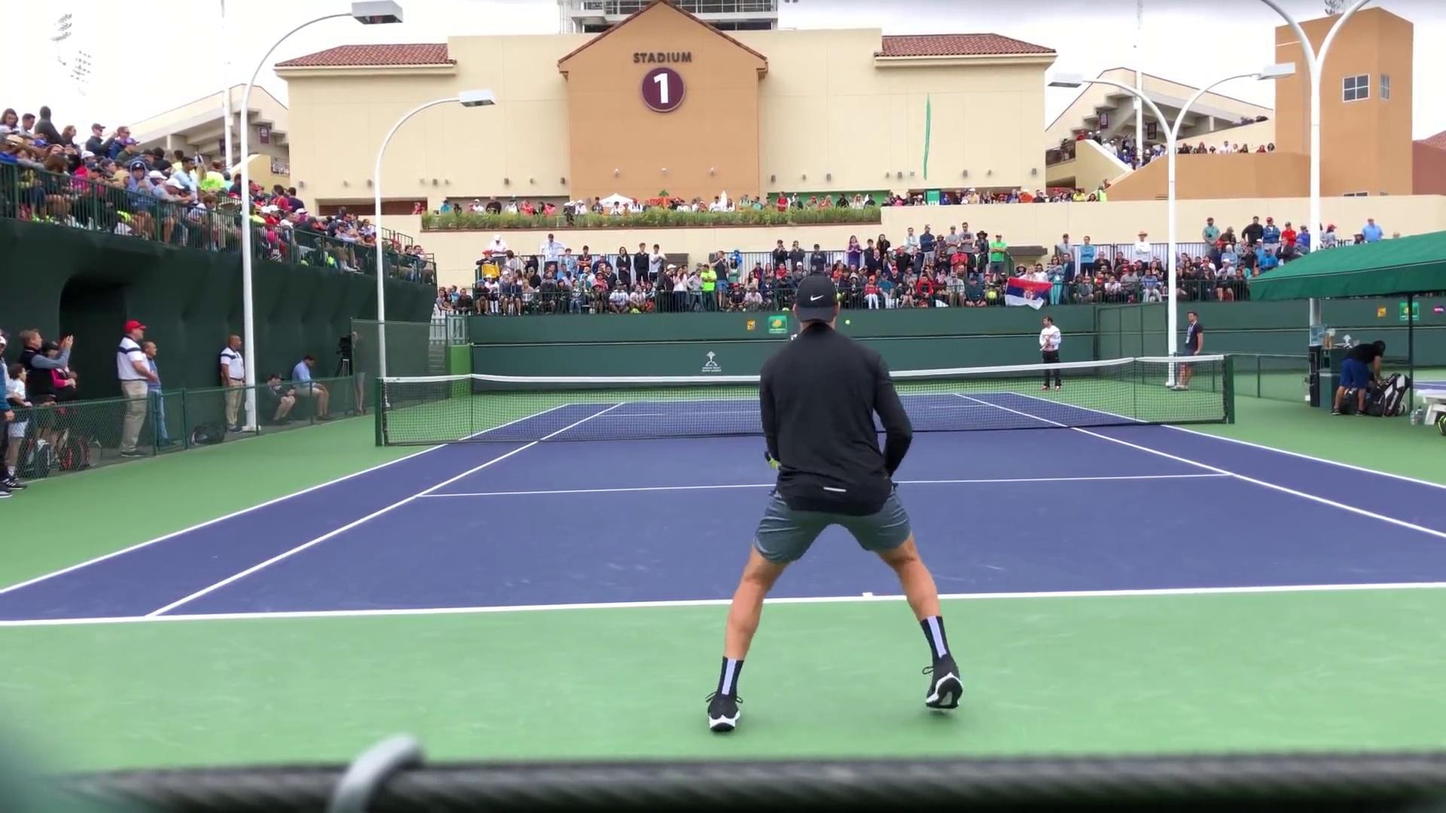ball: (844, 319, 851, 325)
